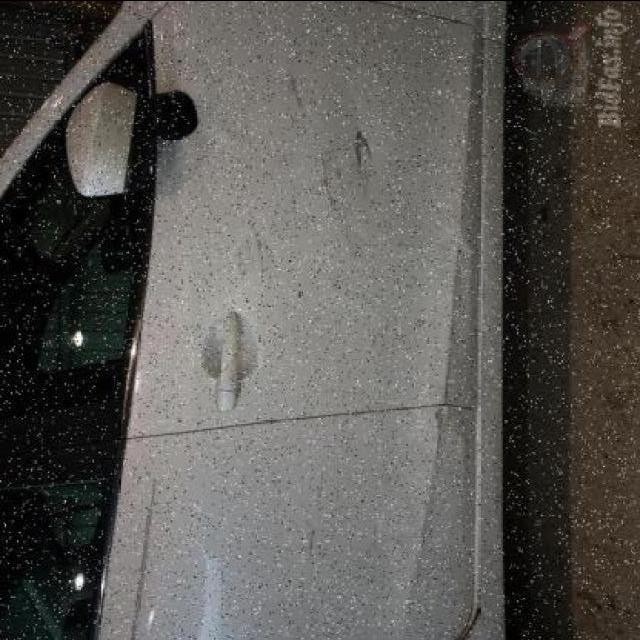doorouter-dent: (151, 25, 479, 421), (120, 429, 480, 637)
